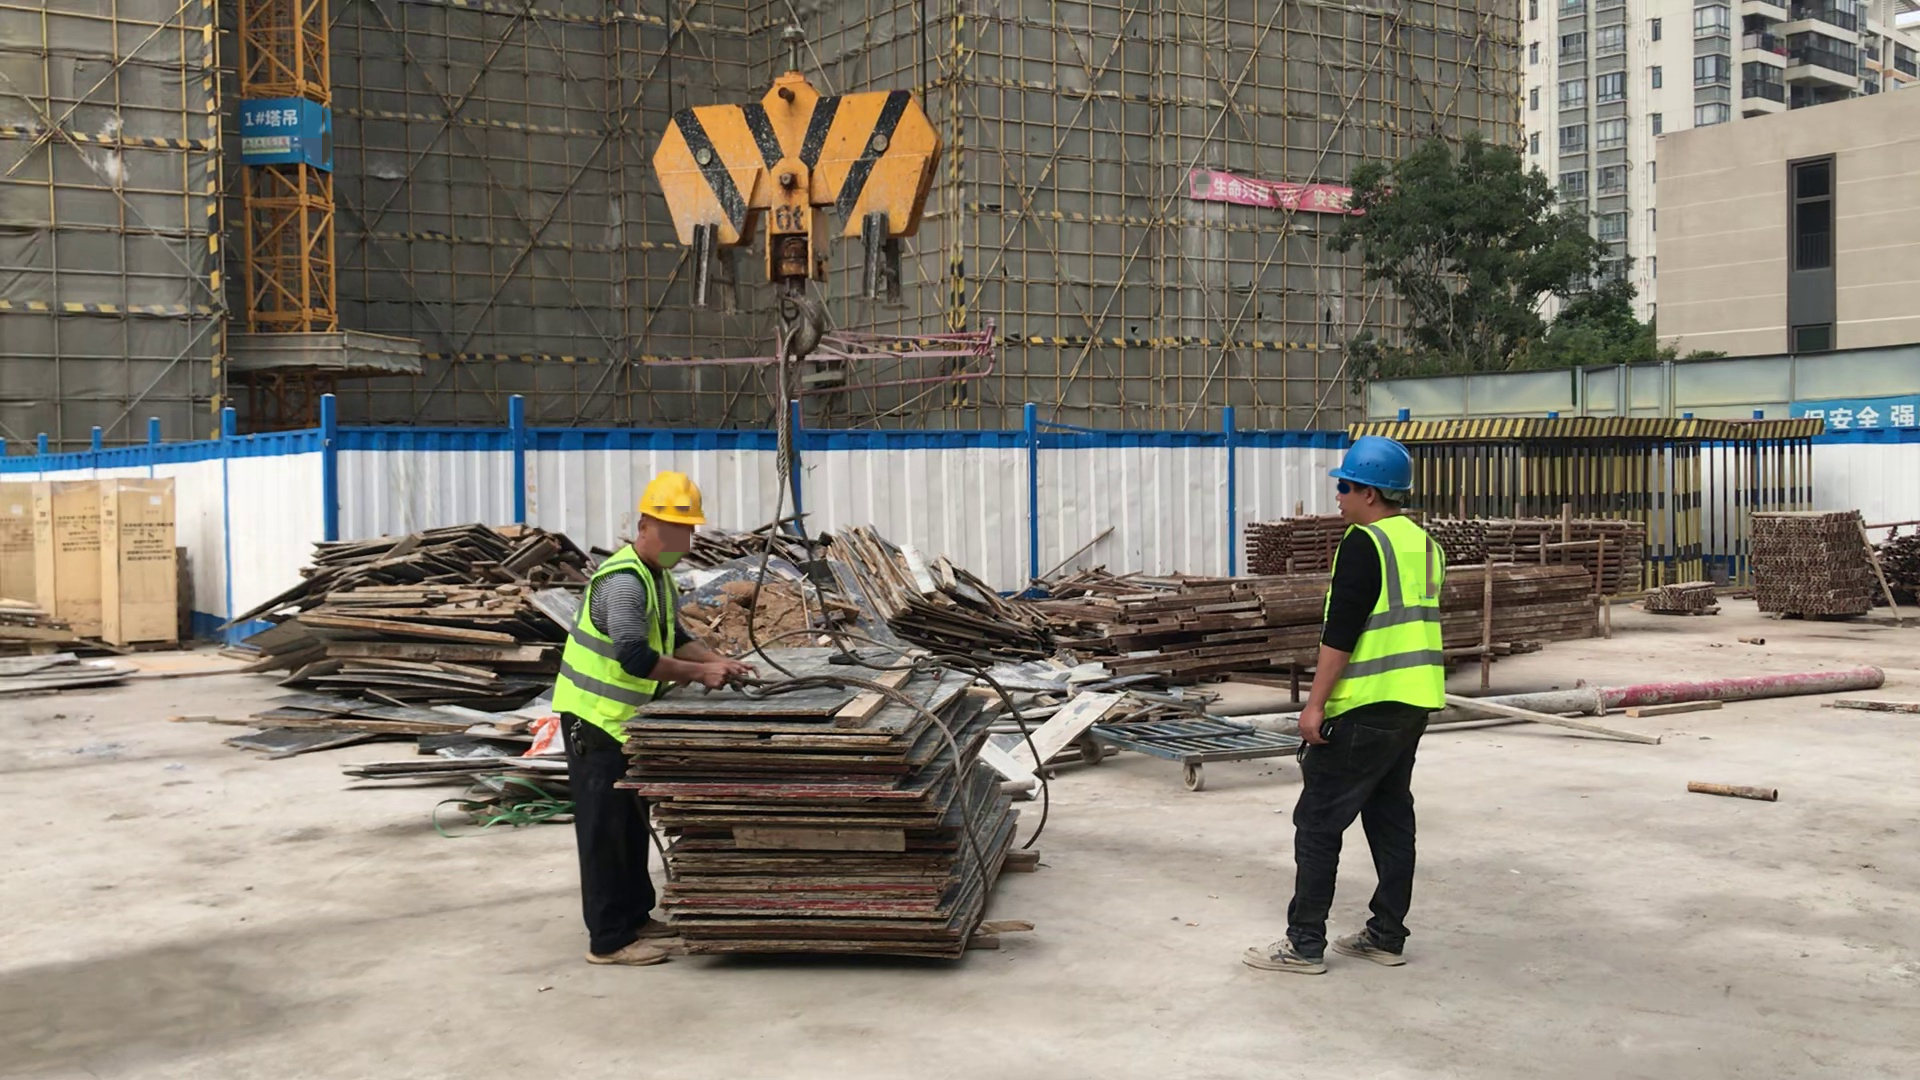board: (621, 690, 1020, 968)
helmet: (1322, 439, 1414, 493), (636, 468, 709, 532)
hook: (650, 72, 943, 354)
person: (1232, 434, 1448, 983), (551, 467, 759, 968)
scaffold: (1454, 511, 1644, 601), (1757, 513, 1870, 618), (1258, 516, 1340, 572)
slogan: (1188, 167, 1379, 216), (1795, 403, 1920, 431), (241, 135, 292, 152)
vest: (1314, 517, 1448, 725), (554, 547, 677, 749)
